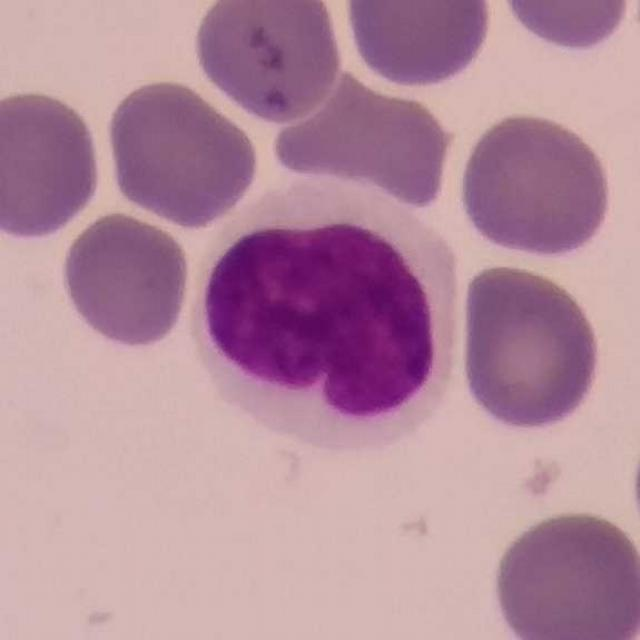Lymphocyte: (196, 174, 458, 440)
RBC: (453, 258, 608, 436), (270, 65, 462, 202), (453, 106, 618, 264), (101, 75, 264, 229), (486, 505, 640, 640), (187, 0, 347, 127), (57, 207, 195, 353), (0, 85, 107, 244), (340, 0, 498, 90), (493, 0, 637, 56)
